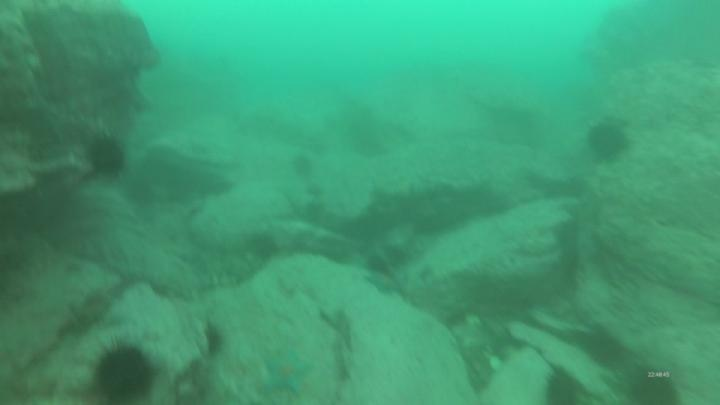echinus: (91, 339, 160, 405), (628, 364, 682, 405), (584, 325, 627, 371), (585, 122, 632, 164), (85, 136, 128, 179), (540, 369, 582, 405), (202, 322, 225, 359)
starfish: (257, 347, 316, 396), (246, 230, 282, 263), (289, 153, 317, 181)
